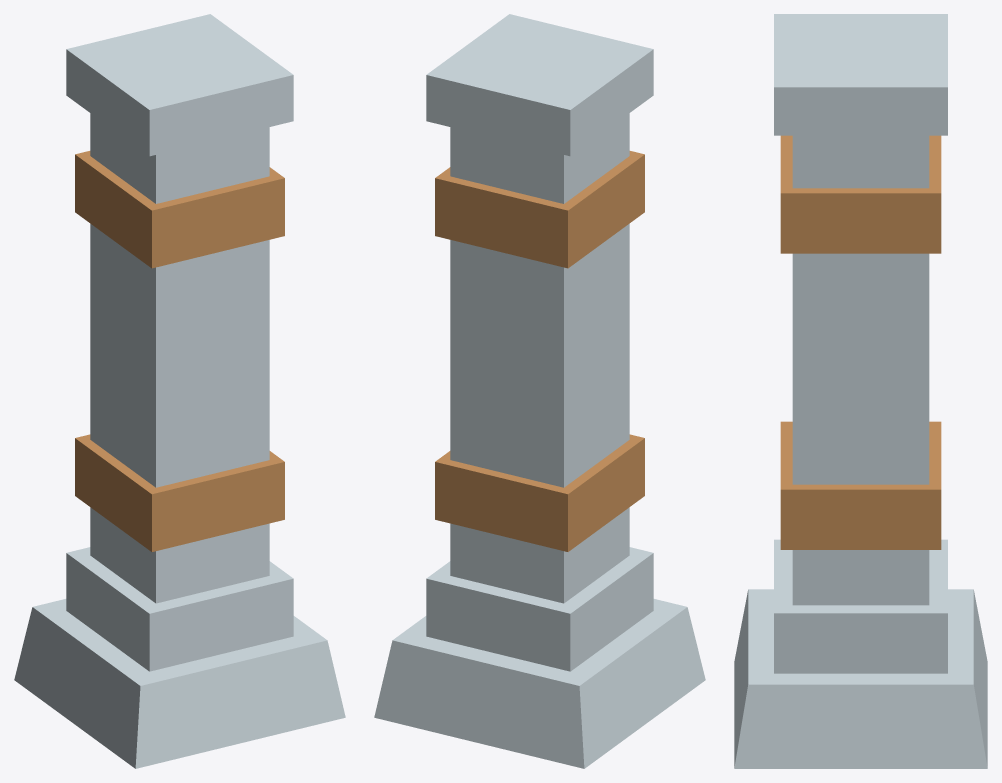
Rendered from columnLarge.fbx.
3 views of the same model, side by side, from view 1: azimuth 30°, elevation 25°; view 2: azimuth 150°, elevation 25°; view 3: azimuth 270°, elevation 25° (orthographic). The views are drawn at different scales.
Visible parts, largest first — view 1: columnLarge; view 2: columnLarge; view 3: columnLarge.
Part boxes in pixels (box(x1,y1,x2,y2)): columnLarge: box(14, 14, 345, 768); columnLarge: box(374, 14, 705, 768); columnLarge: box(734, 14, 987, 768).
Bounding box in the file's own units: 3.8 × 11 × 3.8.
